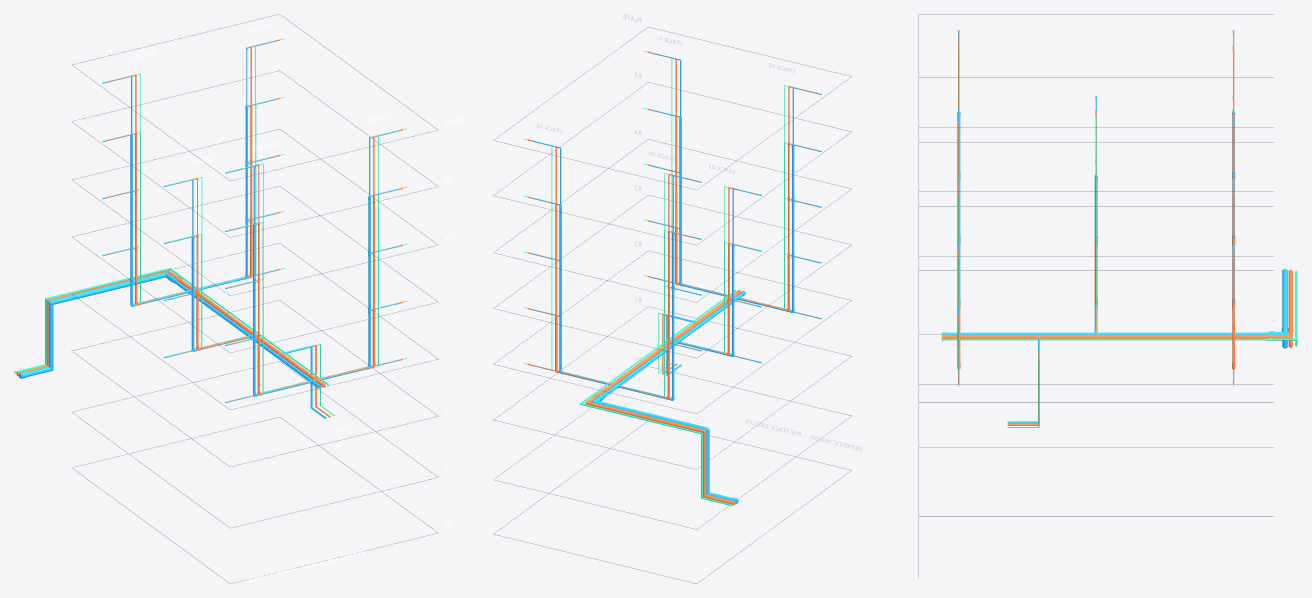
File: building.glb
3 views of the same model, side by side, from view 1: azimuth 30°, elevation 25°; view 2: azimuth 150°, elevation 25°; view 3: azimuth 270°, elevation 25° (orthographic). The views are drawn at different scales.
Parts seen in each view (by area): view 1: plant-to-building-CW, distribution-main-CW, distribution-main-HW, plant-to-building-HW; view 2: plant-to-building-HW, plant-to-building-CW, distribution-main-CW, distribution-main-HW, plant-to-building-HWC; view 3: distribution-main-HW, distribution-main-CW, distribution-main-HWC.
Part boxes in pixels (left/top/right/bottom): plant-to-building-CW: left=18, top=272, right=175, bottom=378; distribution-main-CW: left=172, top=278, right=321, bottom=388; distribution-main-HW: left=176, top=277, right=325, bottom=387; plant-to-building-HW: left=16, top=269, right=179, bottom=376; plant-to-building-HW: left=585, top=394, right=735, bottom=505; plant-to-building-CW: left=592, top=394, right=738, bottom=503; distribution-main-CW: left=602, top=291, right=745, bottom=397; distribution-main-HW: left=596, top=290, right=741, bottom=394; plant-to-building-HWC: left=580, top=394, right=732, bottom=506; distribution-main-HW: left=941, top=334, right=1267, bottom=338; distribution-main-CW: left=941, top=332, right=1267, bottom=334; distribution-main-HWC: left=941, top=338, right=1267, bottom=340.
Size of the model in its own units: 16.1 by 22.68 by 18.09.
